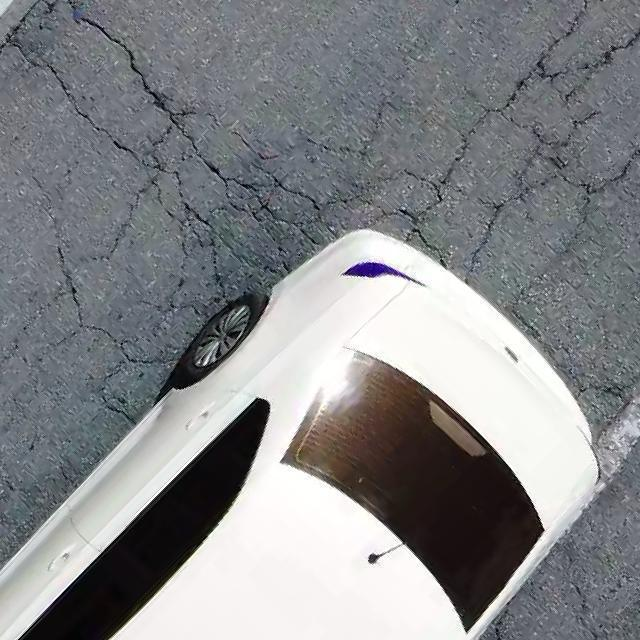GRIETA: (31, 174, 65, 266)
PIEL DE COCODRILO: (0, 0, 639, 451)
